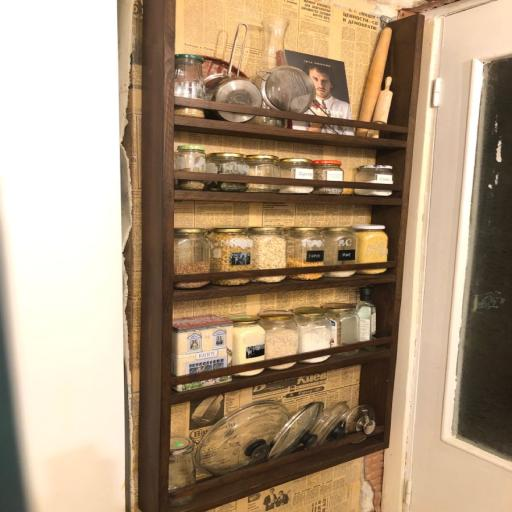road: (169, 425, 386, 511), (171, 348, 390, 404), (175, 116, 406, 148), (174, 274, 396, 301), (175, 190, 402, 205)
